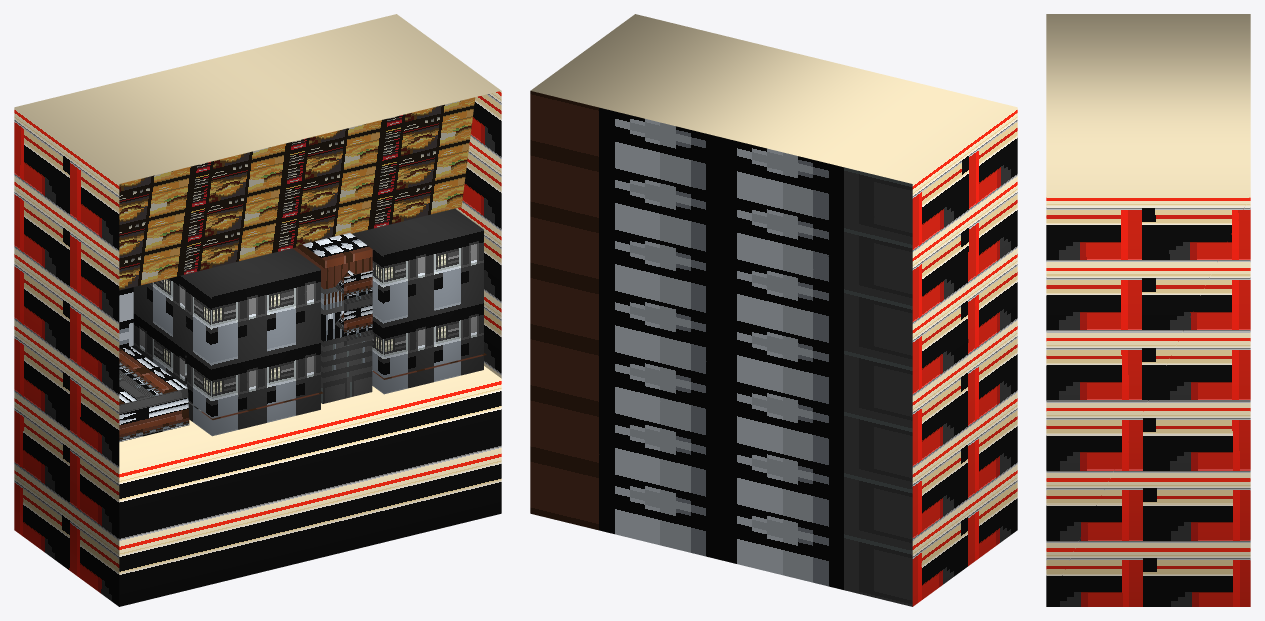
Rendered from 3631kg_case_31.gltf.
The picture shows the model from 3 angles, left to right: view 1: azimuth 30°, elevation 25°; view 2: azimuth 150°, elevation 25°; view 3: azimuth 270°, elevation 25°; orthographic projection. The views are drawn at different scales.
Parts seen in each view (by area): view 1: 3631kg_case_31; view 2: 3631kg_case_31; view 3: 3631kg_case_31.
Part boxes in pixels (left/top/right/bottom): 3631kg_case_31: left=14, top=14, right=501, bottom=606; 3631kg_case_31: left=530, top=14, right=1017, bottom=606; 3631kg_case_31: left=1046, top=14, right=1250, bottom=606.
Size of the model in its own units: 2 by 2.11 by 0.9502.
4 materials, 4 textured.
